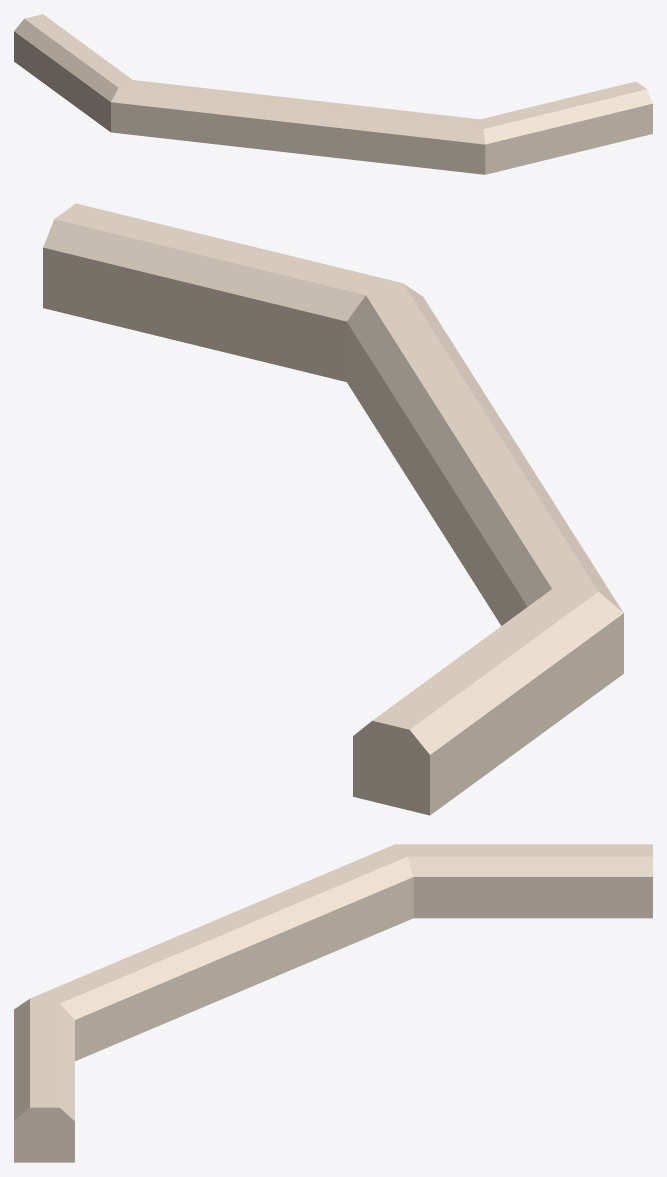
3 views of the same model, one above another, from view 1: azimuth 30°, elevation 25°; view 2: azimuth 150°, elevation 25°; view 3: azimuth 270°, elevation 25° (orthographic). The views are drawn at different scales.
Visible parts, largest first — view 1: object1.004; view 2: object1.004; view 3: object1.004.
Part boxes in pixels (x1,y1,x2,y2): object1.004: [14, 14, 652, 174]; object1.004: [43, 203, 623, 815]; object1.004: [14, 844, 652, 1162].
Size of the model in its own units: 2.1 by 0.2 by 2.1.
